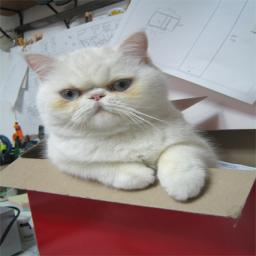catnose: (88, 93, 107, 102)
